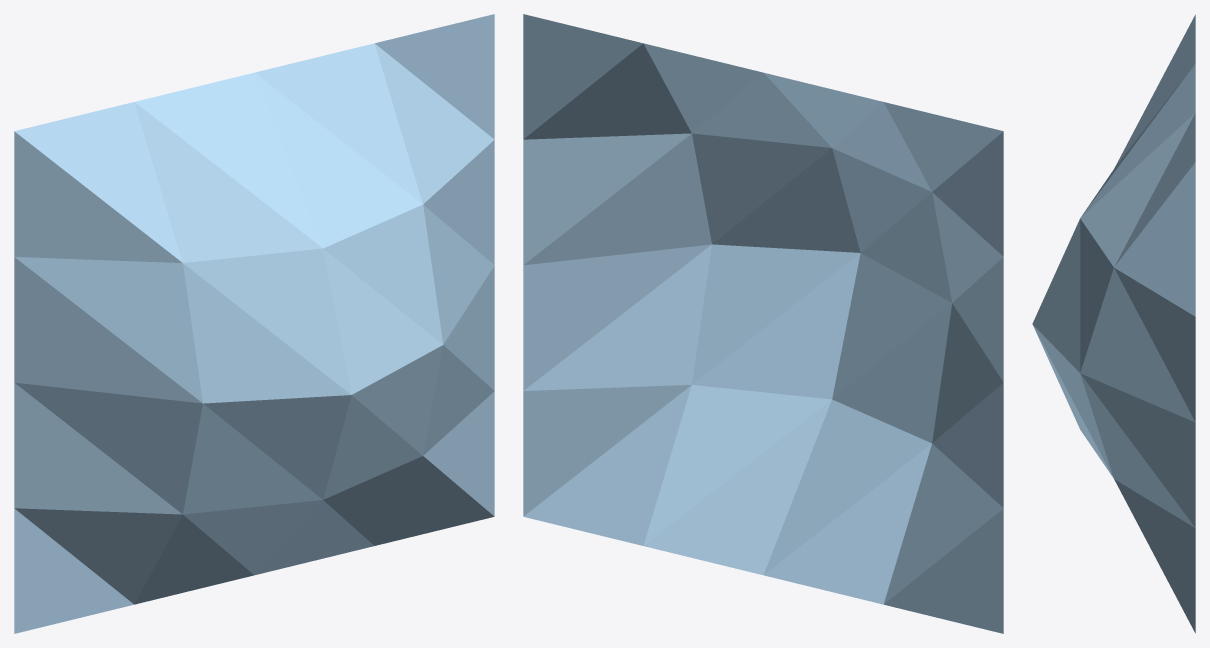
The picture shows the model from 3 angles, left to right: view 1: azimuth 30°, elevation 25°; view 2: azimuth 150°, elevation 25°; view 3: azimuth 270°, elevation 25°; orthographic projection. The views are drawn at different scales.
Visible parts, largest first — view 1: equipment-2; view 2: equipment-2; view 3: equipment-2.
Boxes of the visible parts, bbox=[...] form: equipment-2: bbox=[14, 14, 494, 633]; equipment-2: bbox=[523, 14, 1003, 633]; equipment-2: bbox=[1032, 14, 1195, 633].
Bounding box in the file's own units: 1 × 1 × 0.35.
